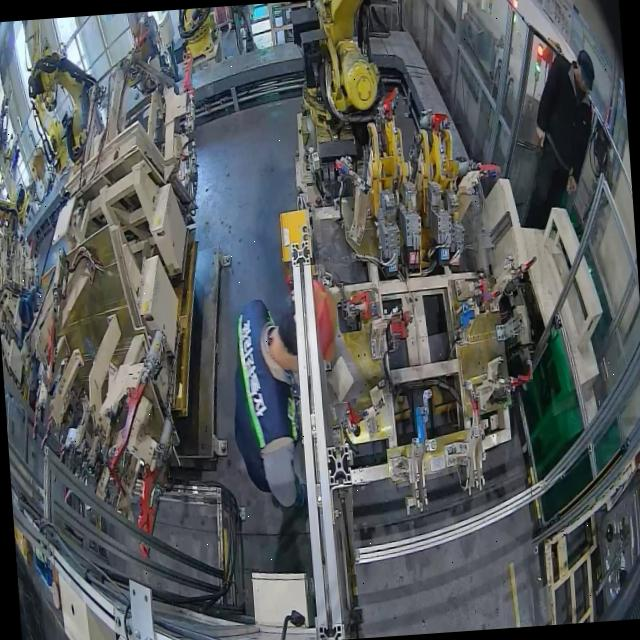Person: (223, 268, 349, 512), (529, 46, 602, 196)
